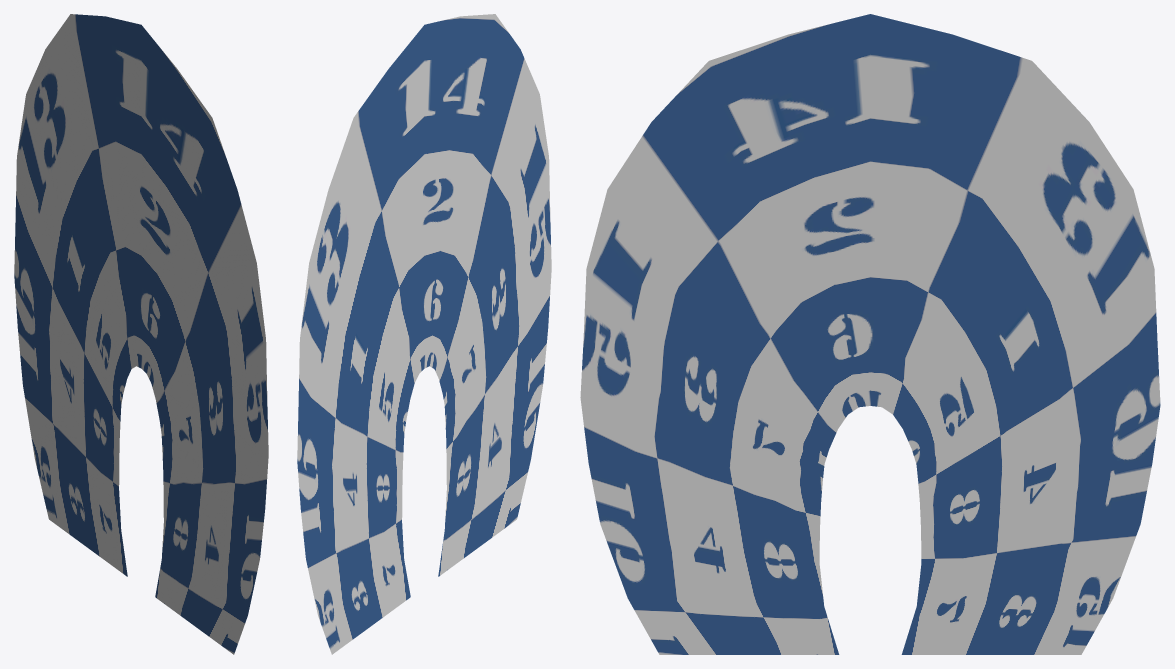
File: Unique1.fbx
3 views of the same model, side by side, from view 1: azimuth 30°, elevation 25°; view 2: azimuth 150°, elevation 25°; view 3: azimuth 270°, elevation 25° (orthographic). The views are drawn at different scales.
Visible parts, largest first — view 1: SM_e_Useful_Unique001; view 2: SM_e_Useful_Unique001; view 3: SM_e_Useful_Unique001.
Boxes of the visible parts, x1=… form: SM_e_Useful_Unique001: x1=14, y1=14, x2=268, y2=654; SM_e_Useful_Unique001: x1=297, y1=14, x2=551, y2=654; SM_e_Useful_Unique001: x1=580, y1=14, x2=1160, y2=654.
Size of the model in its own units: 6.17e-05 by 292 by 239.
